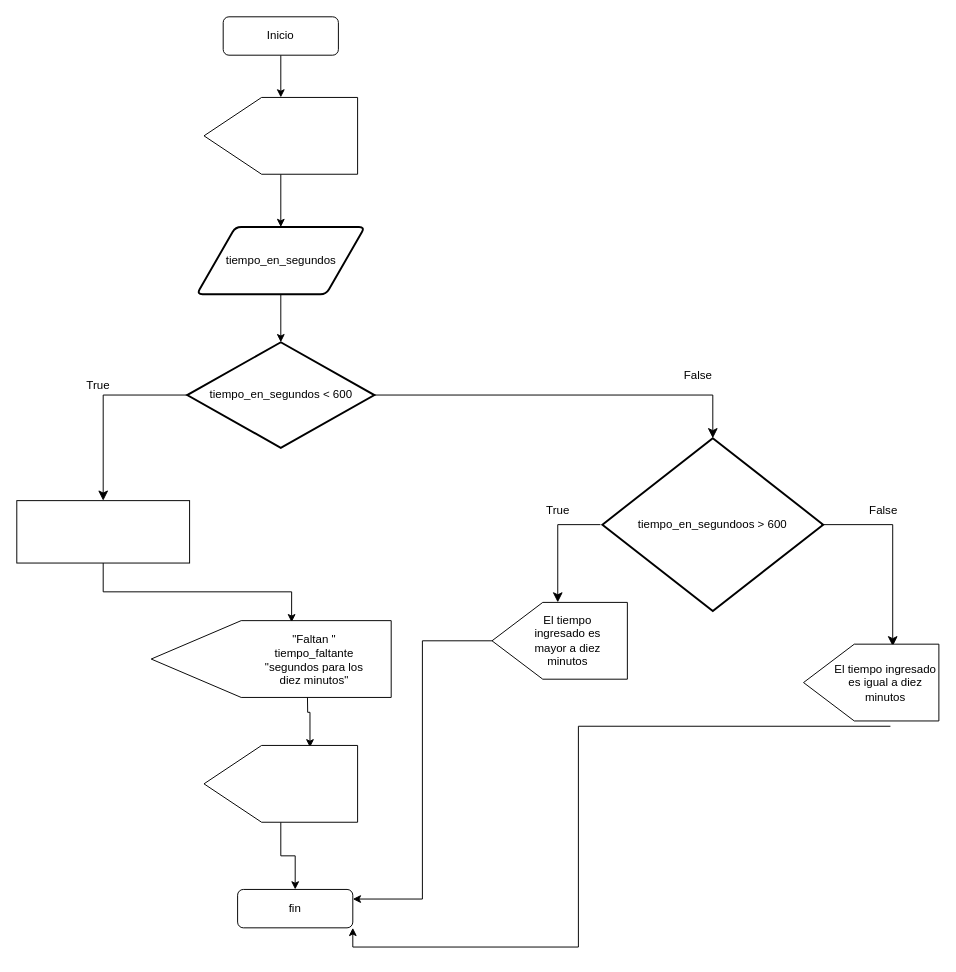
The diagram is 956 pixels wide and 972 high, and some of its shapes have lost their labels. Here are the shapes that lost their labels. From the top down, the box of each, then its label:
(203, 96, 358, 174): "Ingrese el tiempo en segundos"
(16, 500, 190, 563): tiempo_faltante = 600 - tiempo_en_segundos
(203, 744, 358, 822): "El precio con descuento es " precio_final
